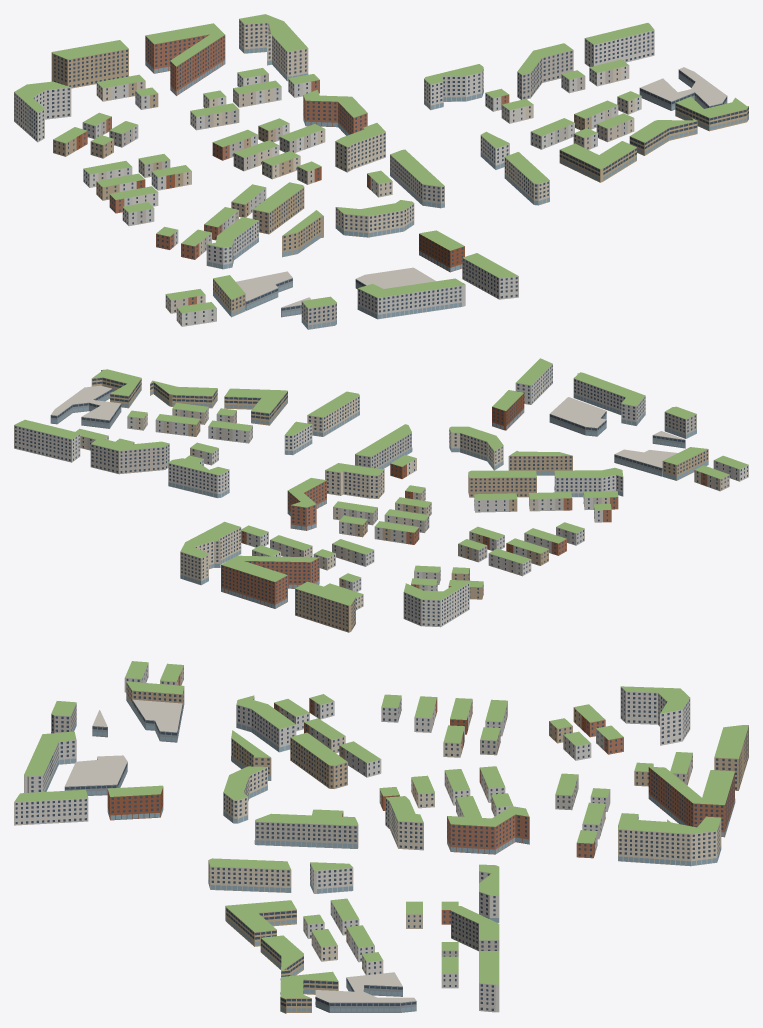
3 views of the same model, one above another, from view 1: azimuth 30°, elevation 25°; view 2: azimuth 150°, elevation 25°; view 3: azimuth 270°, elevation 25° (orthographic). The views are drawn at different scales.
Parts seen in each view (by area): view 1: S2_P2_wand, S2_P3_wand, S2_P1_wand, S2_P3_dach, S2_P3_fenster, S2_P2_dach, S2_P4_wand, S2_P1_dach, S2_P4_dach, S2_P1_fenster, S2_P2_fenster, S2_P4_fenster; view 2: S2_P3_wand, S2_P2_wand, S2_P1_wand, S2_P3_dach, S2_P3_fenster, S2_P2_dach, S2_P4_wand, S2_P1_dach, S2_P4_dach, S2_P1_fenster, S2_P2_fenster, S2_P4_fenster; view 3: S2_P3_wand, S2_P3_dach, S2_P1_wand, S2_P2_wand, S2_P2_dach, S2_P3_fenster, S2_P1_dach, S2_P4_dach, S2_P4_wand, S2_P1_fenster, S2_P4_fenster, S2_P2_fenster.
Boxes of the visible parts, x1=… form: S2_P2_wand: x1=83, y1=30, x2=654, y2=226; S2_P3_wand: x1=156, y1=69, x2=748, y2=269; S2_P1_wand: x1=14, y1=19, x2=319, y2=158; S2_P3_dach: x1=156, y1=67, x2=748, y2=247; S2_P3_fenster: x1=157, y1=70, x2=748, y2=268; S2_P2_dach: x1=83, y1=23, x2=654, y2=212; S2_P4_wand: x1=165, y1=234, x2=518, y2=329; S2_P1_dach: x1=14, y1=14, x2=319, y2=144; S2_P4_dach: x1=166, y1=230, x2=518, y2=313; S2_P1_fenster: x1=14, y1=21, x2=316, y2=156; S2_P2_fenster: x1=84, y1=31, x2=653, y2=224; S2_P4_fenster: x1=166, y1=235, x2=517, y2=329; S2_P3_wand: x1=50, y1=370, x2=623, y2=522; S2_P2_wand: x1=14, y1=425, x2=584, y2=576; S2_P1_wand: x1=180, y1=527, x2=483, y2=632; S2_P3_dach: x1=51, y1=369, x2=623, y2=510; S2_P3_fenster: x1=51, y1=378, x2=622, y2=521; S2_P2_dach: x1=14, y1=419, x2=584, y2=563; S2_P4_wand: x1=492, y1=364, x2=748, y2=491; S2_P1_dach: x1=180, y1=521, x2=483, y2=605; S2_P4_dach: x1=492, y1=358, x2=748, y2=478; S2_P1_fenster: x1=180, y1=528, x2=483, y2=631; S2_P2_fenster: x1=15, y1=426, x2=583, y2=574; S2_P4_fenster: x1=492, y1=365, x2=747, y2=489; S2_P3_wand: x1=208, y1=696, x2=416, y2=1013; S2_P3_dach: x1=208, y1=694, x2=416, y2=1002; S2_P1_wand: x1=549, y1=687, x2=748, y2=866; S2_P2_wand: x1=379, y1=696, x2=529, y2=1012; S2_P2_dach: x1=379, y1=694, x2=529, y2=984; S2_P3_fenster: x1=208, y1=697, x2=416, y2=1012; S2_P1_dach: x1=549, y1=686, x2=748, y2=843; S2_P4_dach: x1=14, y1=661, x2=183, y2=802; S2_P4_wand: x1=14, y1=663, x2=184, y2=825; S2_P1_fenster: x1=550, y1=688, x2=748, y2=865; S2_P4_fenster: x1=15, y1=665, x2=184, y2=823; S2_P2_fenster: x1=380, y1=699, x2=529, y2=1010.
Size of the model in its own units: 516 by 22.8 by 473.
